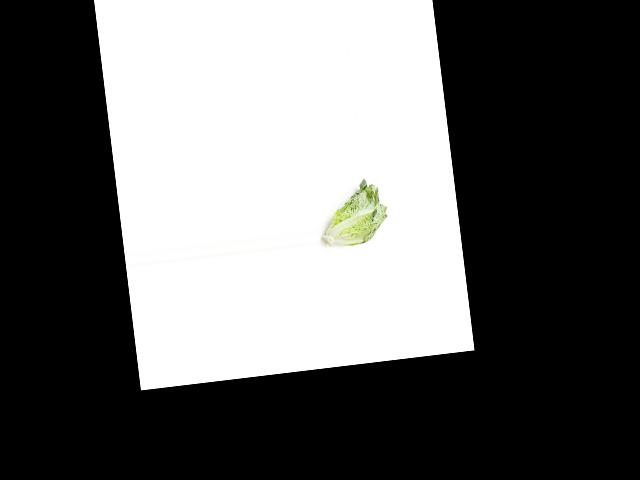lettuce: (318, 177, 394, 251)
